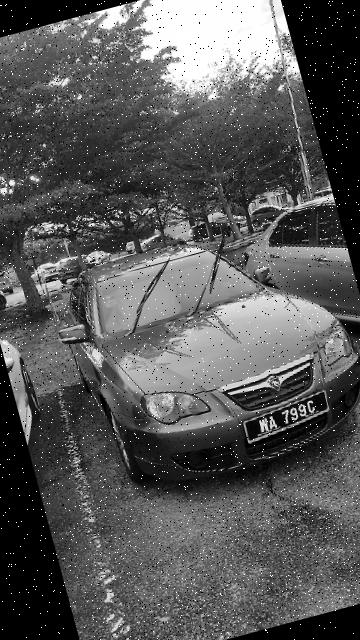License_Plate: (235, 386, 341, 450)
car: (39, 199, 360, 517)
